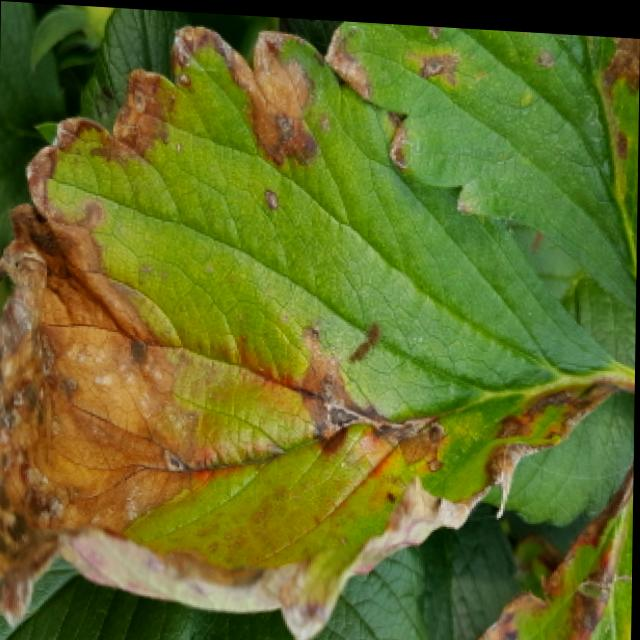Angular Leafspot: (0, 20, 636, 640), (321, 16, 640, 329), (465, 449, 635, 640)
